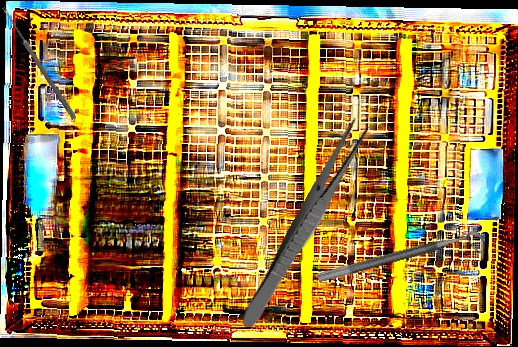Dressing Forceps: (237, 115, 374, 334)
Fixation Ring: (316, 228, 489, 297)
Surgical Spoon: (0, 6, 78, 120)
